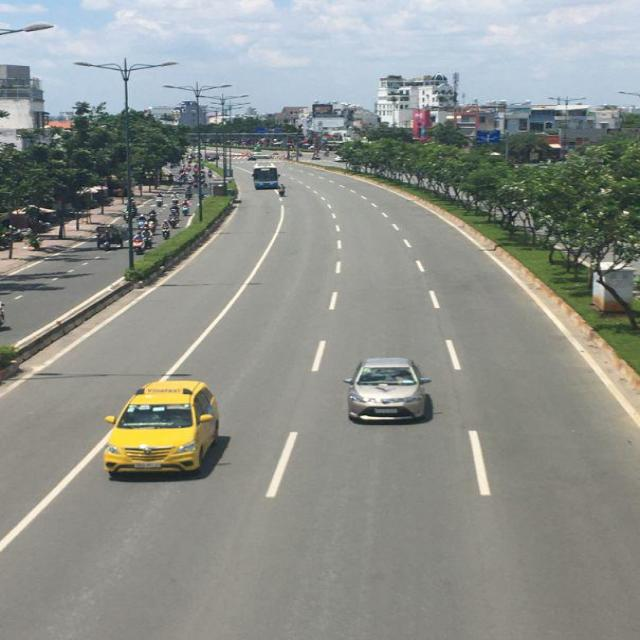bus: (253, 166, 282, 190)
car: (102, 377, 222, 481), (343, 356, 439, 427)
